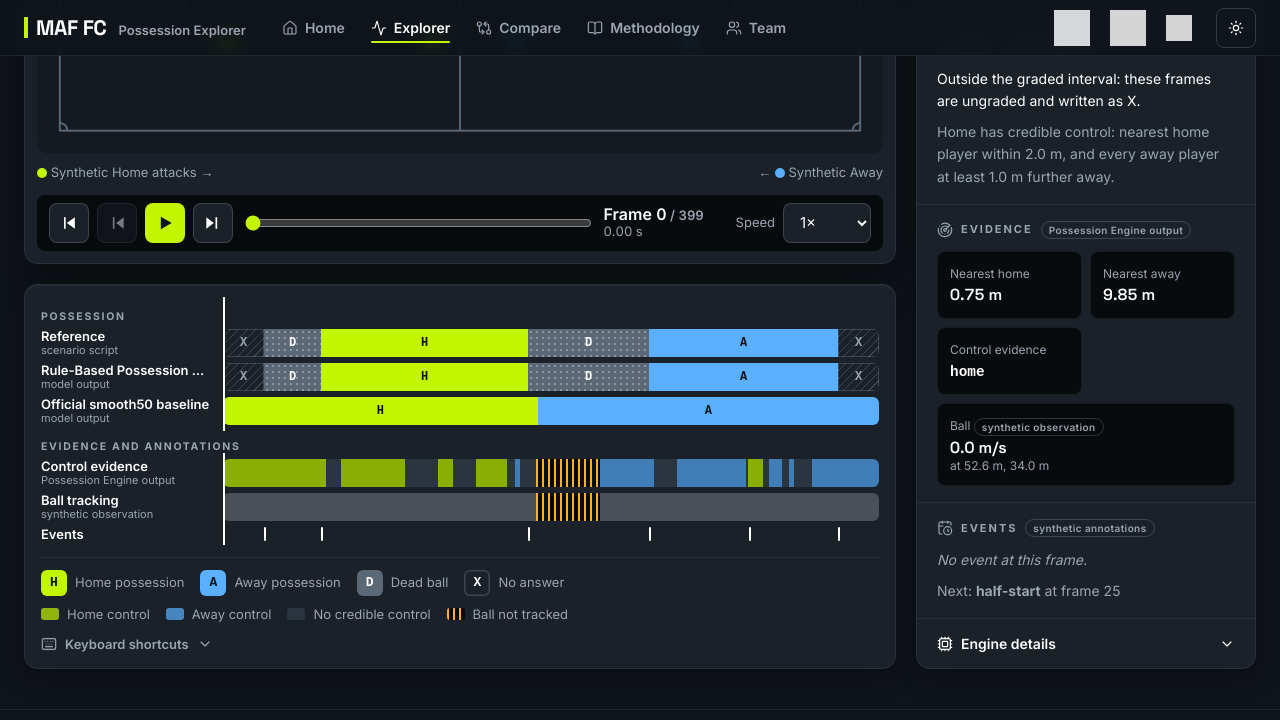
Test case: timeline seek control (A-01) › pointer seeking still works and moves focus to the seek control
(page scrolled)
Expected: the element with test id "readout" is shown, [604, 204, 704, 239]
Step 1. Click the element with test id "timeline-bars" → (551, 421), box [223, 301, 879, 541]
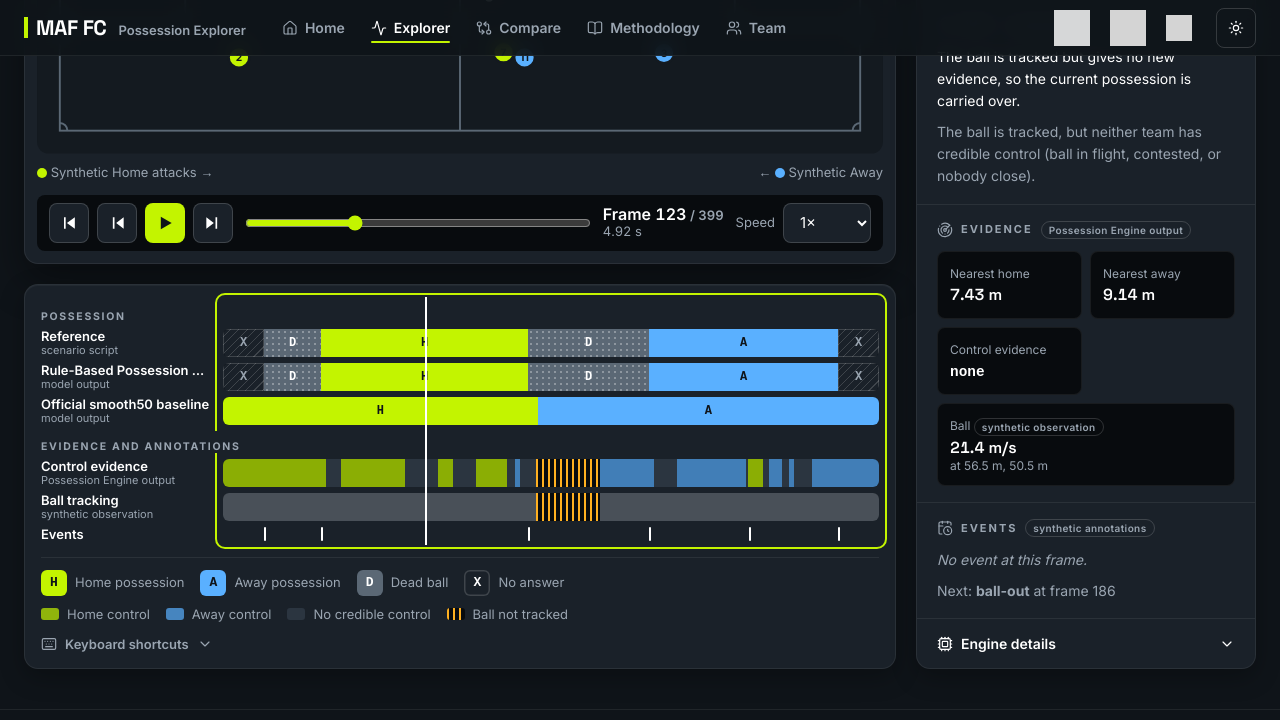
Result: the element with test id "readout" shows "Frame 123" at [603, 205, 724, 240]
Step 2. Click the element with test id "timeline-bars" → (551, 421), box [223, 301, 879, 541]
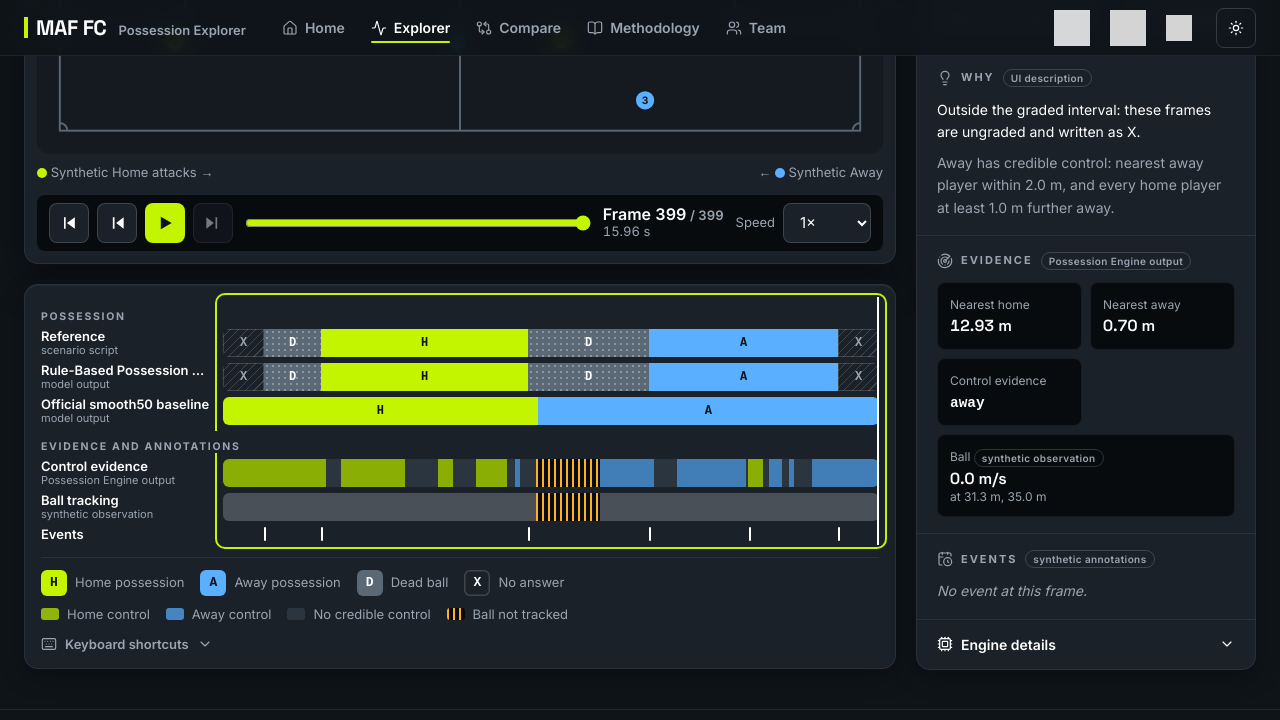
Result: the element with test id "readout" shows "Frame 399" at [603, 205, 724, 240]
